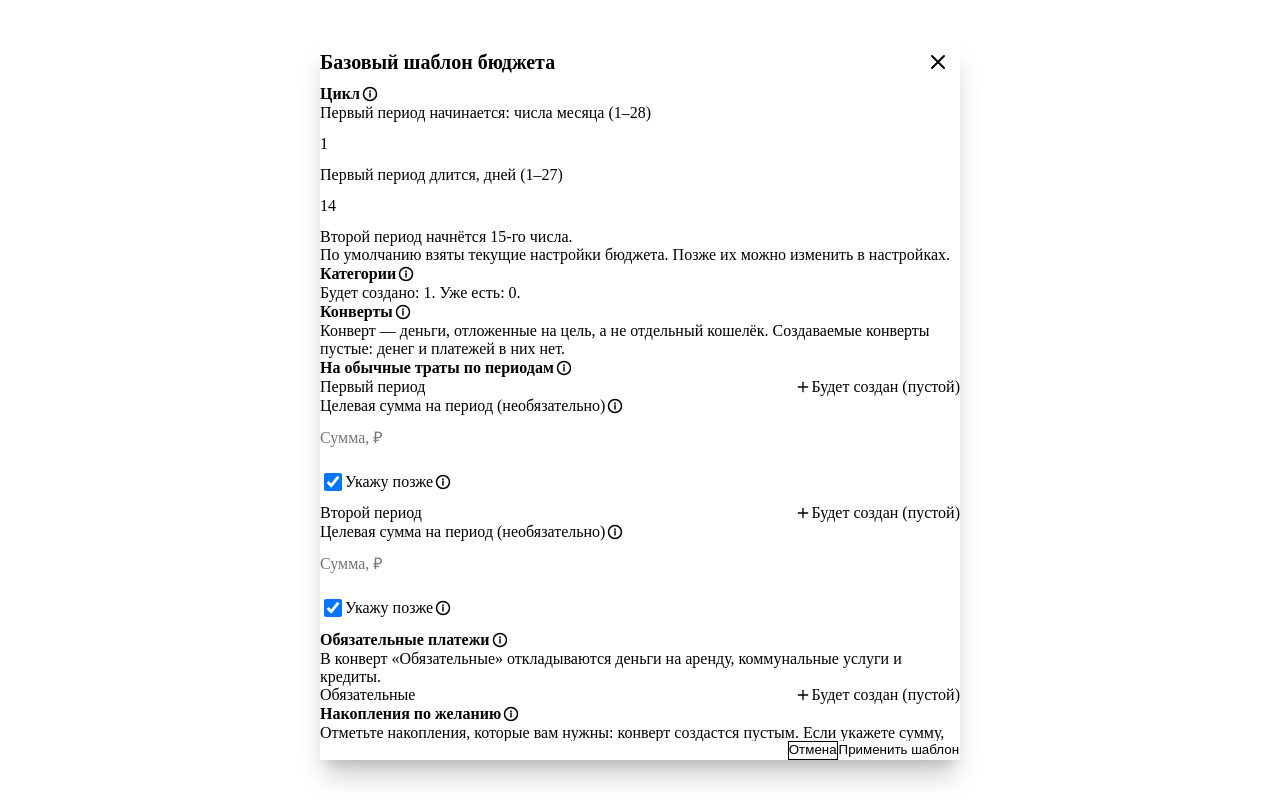
Test: TemplatePreviewSheet review fixes › rejects target "0"
Type "0" into the field with test id "template-target-FIRST" at (640, 438), box [320,416,960,460]
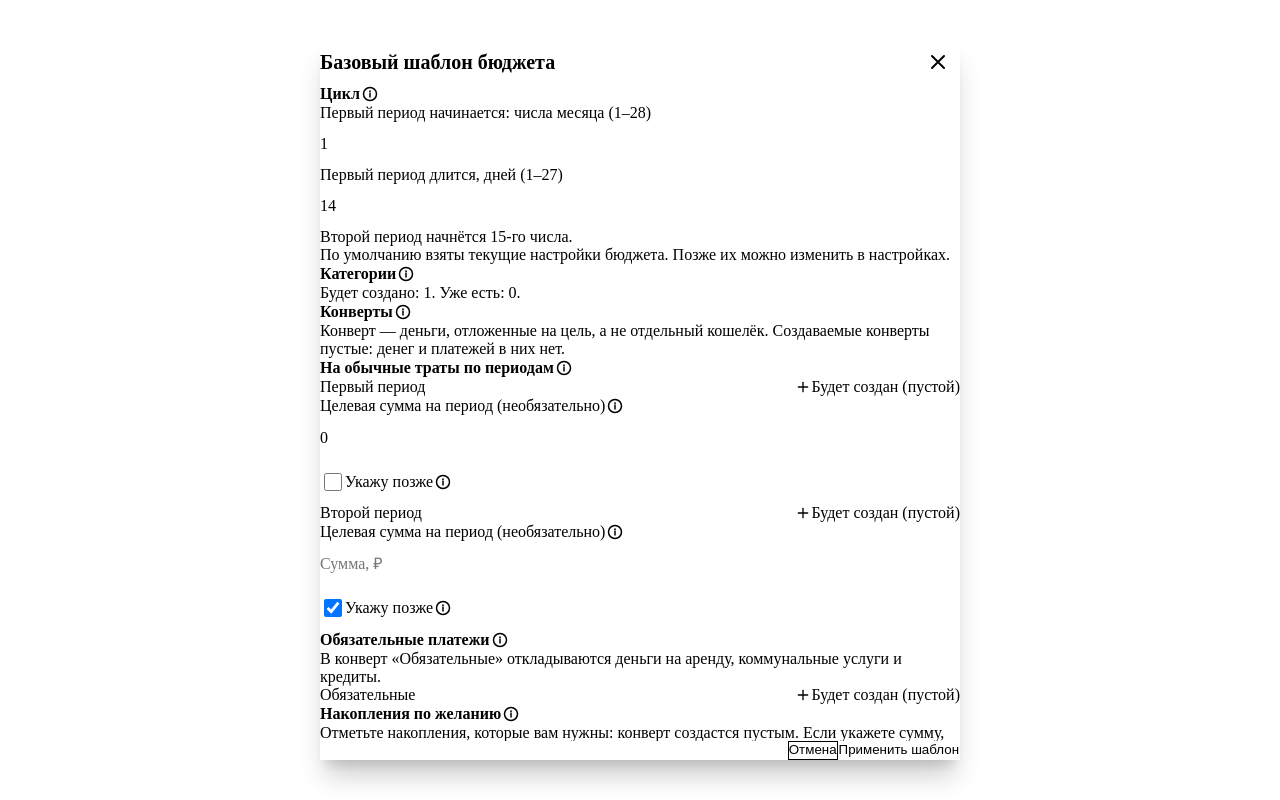
Click the button with test id "template-apply" at (899, 751), box [838,741,960,760]
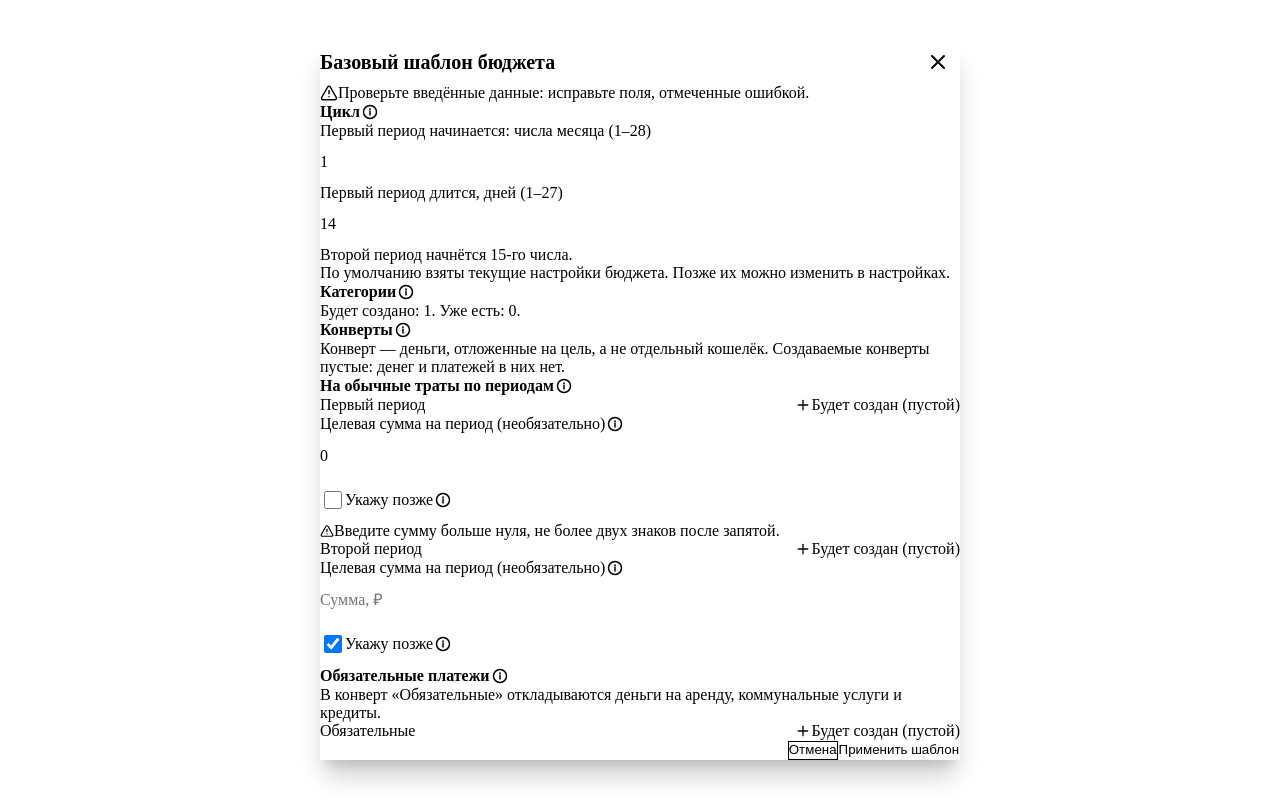
Expected: the element with test id "template-error-FIRST" is shown, [320,522,780,539]
